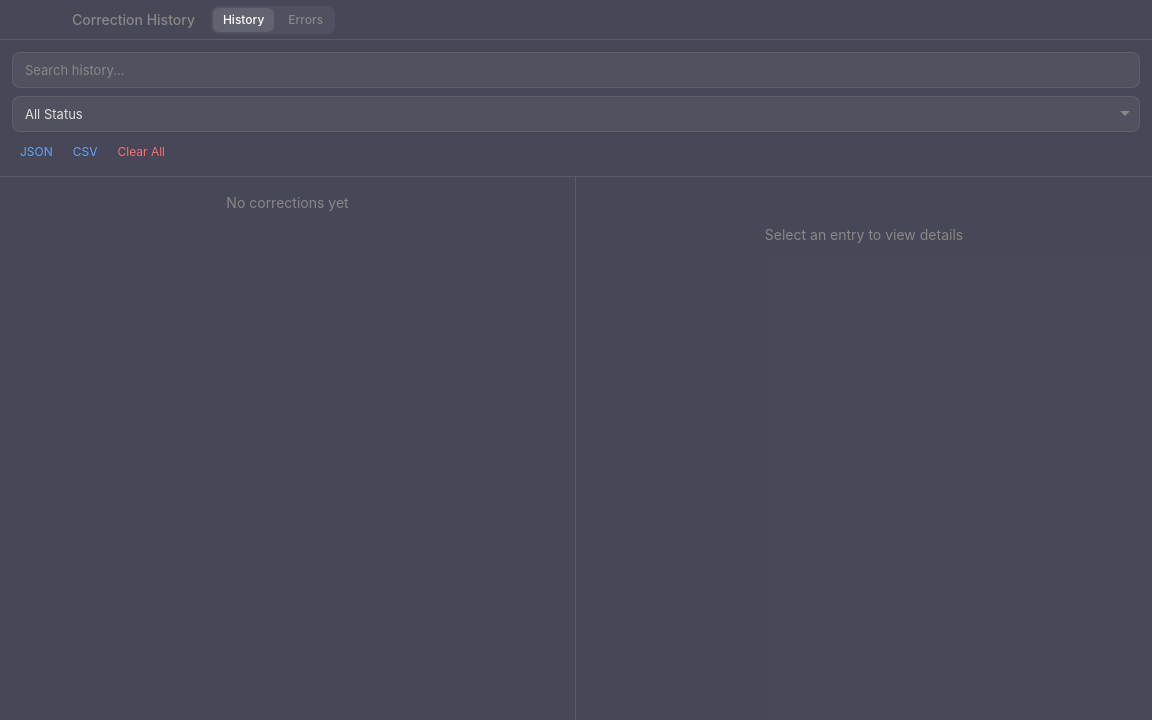
Test case: History › clicking Errors tab switches view
What coordinates should you click on to do the following:
click the button "Errors"
I would click on:
 (306, 20)
Its box is 278,8 -> 333,32.
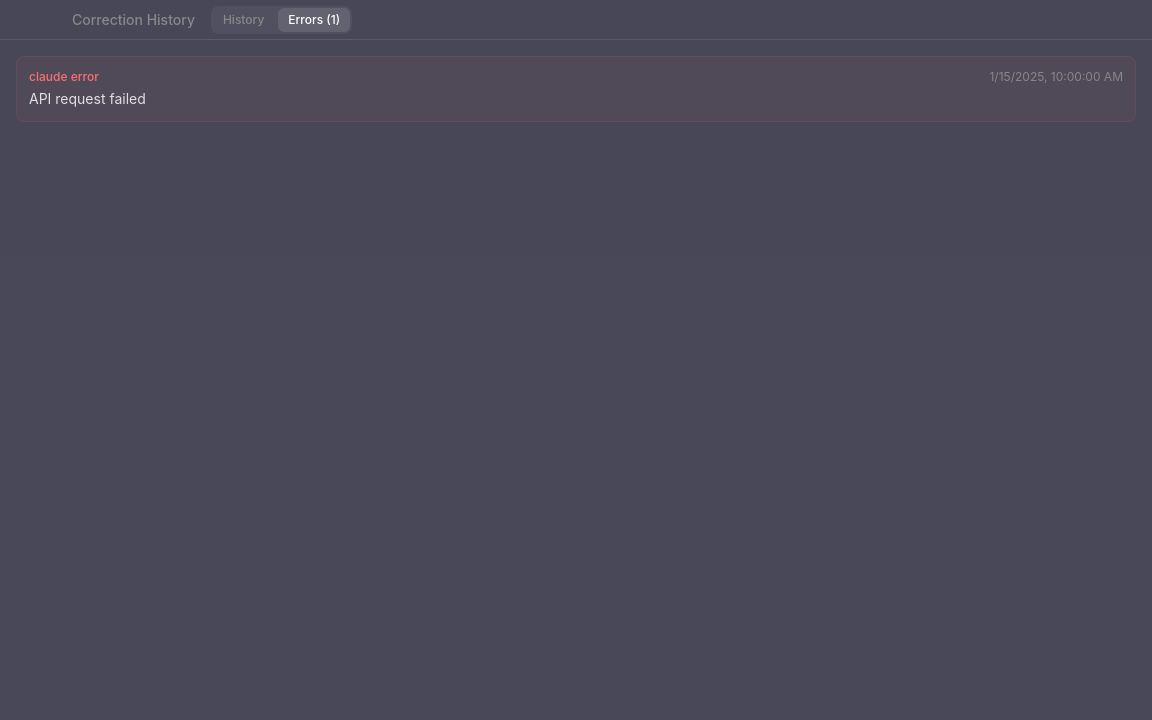
Expected: the text "API request failed" is shown, 29,90 -> 146,107
